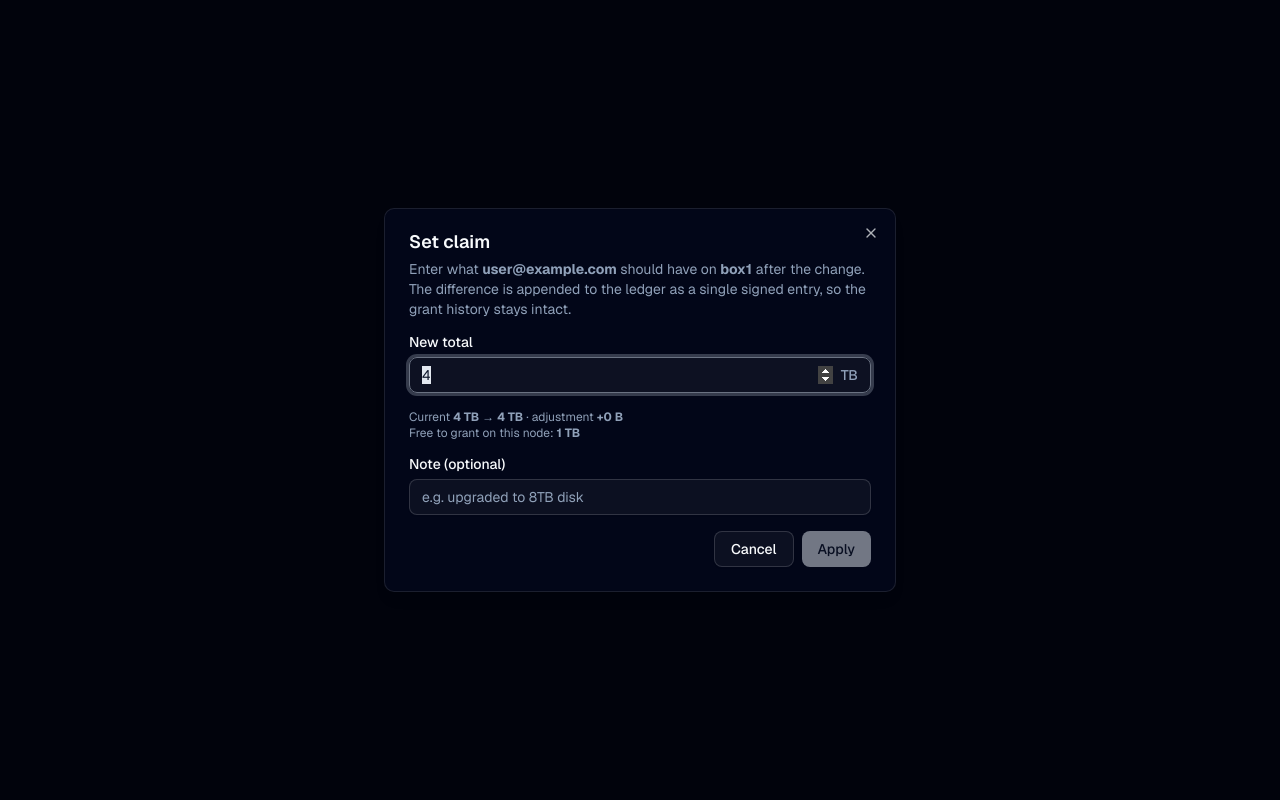
Test: SetClaimDialog › warns when the target exceeds what the node has left
The width and height of the screenshot is (1280, 800).
Replace the text in the number field labelled "New total" with "9". click: (625, 375)
box: [410,357,841,393]
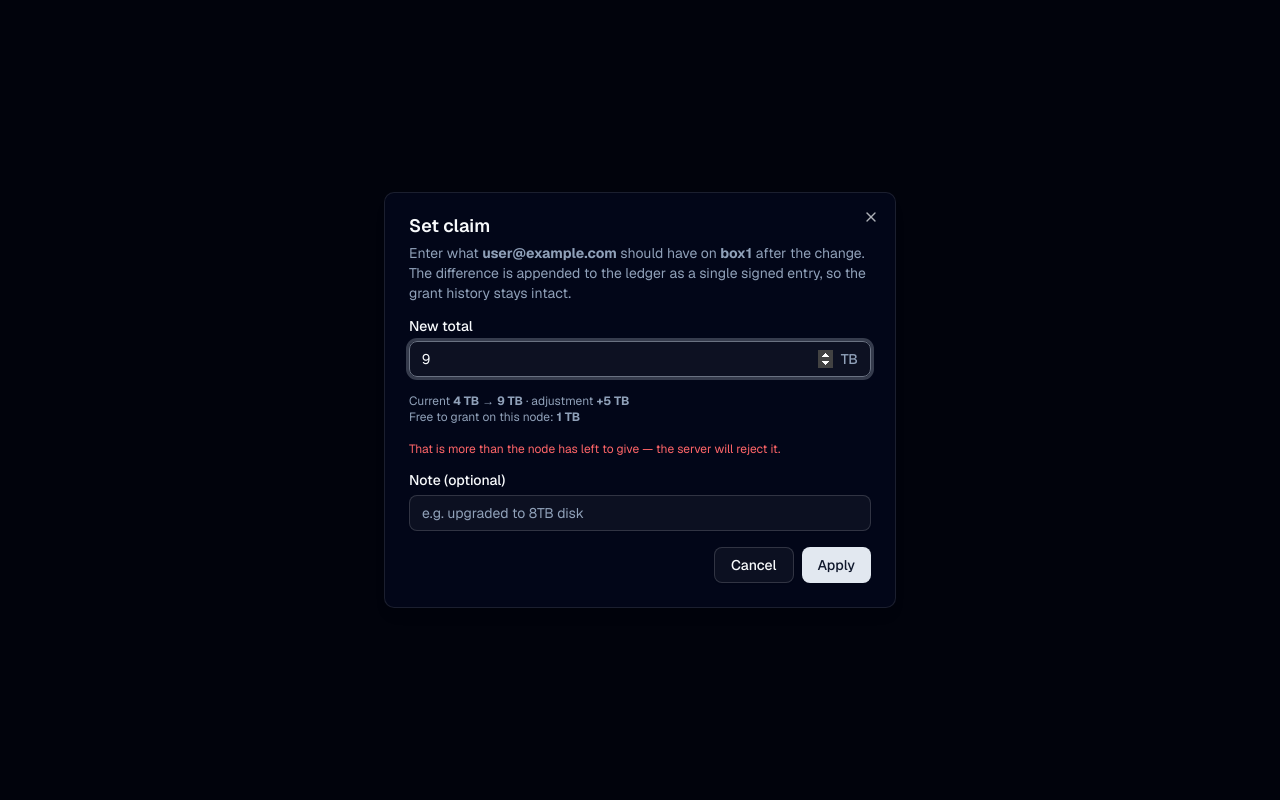
Expected: the text "more than the node has left to give" is shown, [409,441,780,457]
